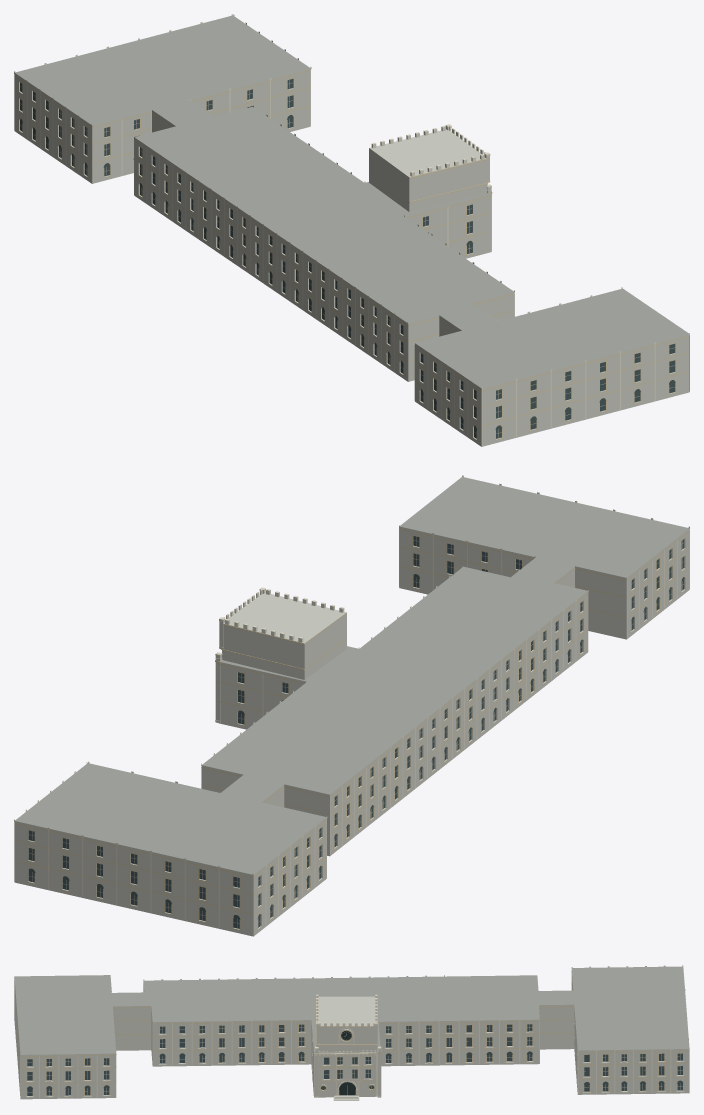
Rendered from mechanical-hall.glb.
The picture shows the model from 3 angles, top to bottom: view 1: azimuth 30°, elevation 25°; view 2: azimuth 150°, elevation 25°; view 3: azimuth 270°, elevation 25°; orthographic projection. The views are drawn at different scales.
Visible parts, largest first — view 1: roof, stone, trim, glass, light; view 2: roof, stone, trim, light, glass; view 3: roof, stone, trim, light, glass, clock.
Part boxes in pixels (x1,y1,x2,y2): roof: (15, 15, 688, 388); stone: (14, 68, 689, 446); trim: (14, 70, 689, 440); glass: (20, 79, 674, 438); light: (14, 14, 689, 445); roof: (15, 477, 689, 874); stone: (14, 526, 689, 936); trim: (15, 528, 689, 930); light: (14, 475, 689, 935); glass: (28, 536, 683, 928); roof: (14, 966, 689, 1054); stone: (14, 972, 689, 1100); trim: (14, 971, 689, 1096); light: (20, 965, 689, 1098); glass: (27, 1024, 682, 1095); clock: (339, 1030, 355, 1095).
Bounding box in the file's own units: 39.04 × 14.95 × 124.
